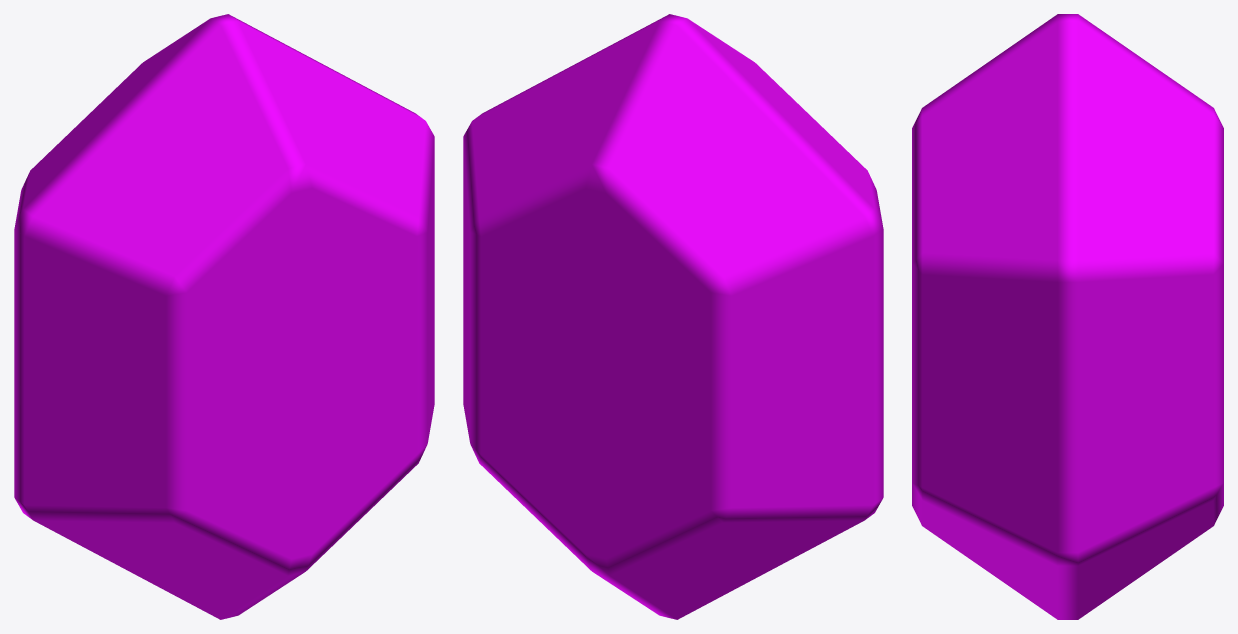
Rendered from Gem.fbx.
3 renders of one model, left to right at view 1: azimuth 30°, elevation 25°; view 2: azimuth 150°, elevation 25°; view 3: azimuth 270°, elevation 25°, orthographic.
Parts seen in each view (by area): view 1: Gem; view 2: Gem; view 3: Gem.
Part boxes in pixels (<box>): Gem: <box>14,14,434,619</box>; Gem: <box>463,14,883,619</box>; Gem: <box>912,14,1223,619</box>.
Bounding box in the file's own units: 71.92 × 99.61 × 47.13.
